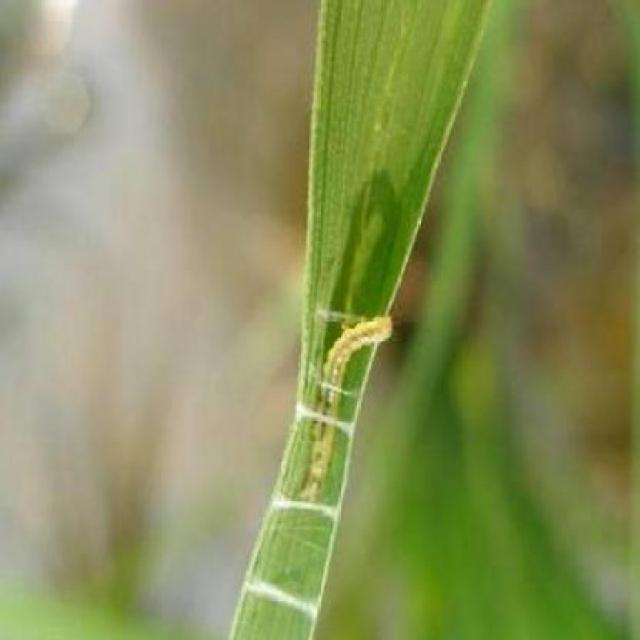leaf-folder: (263, 276, 426, 524)
